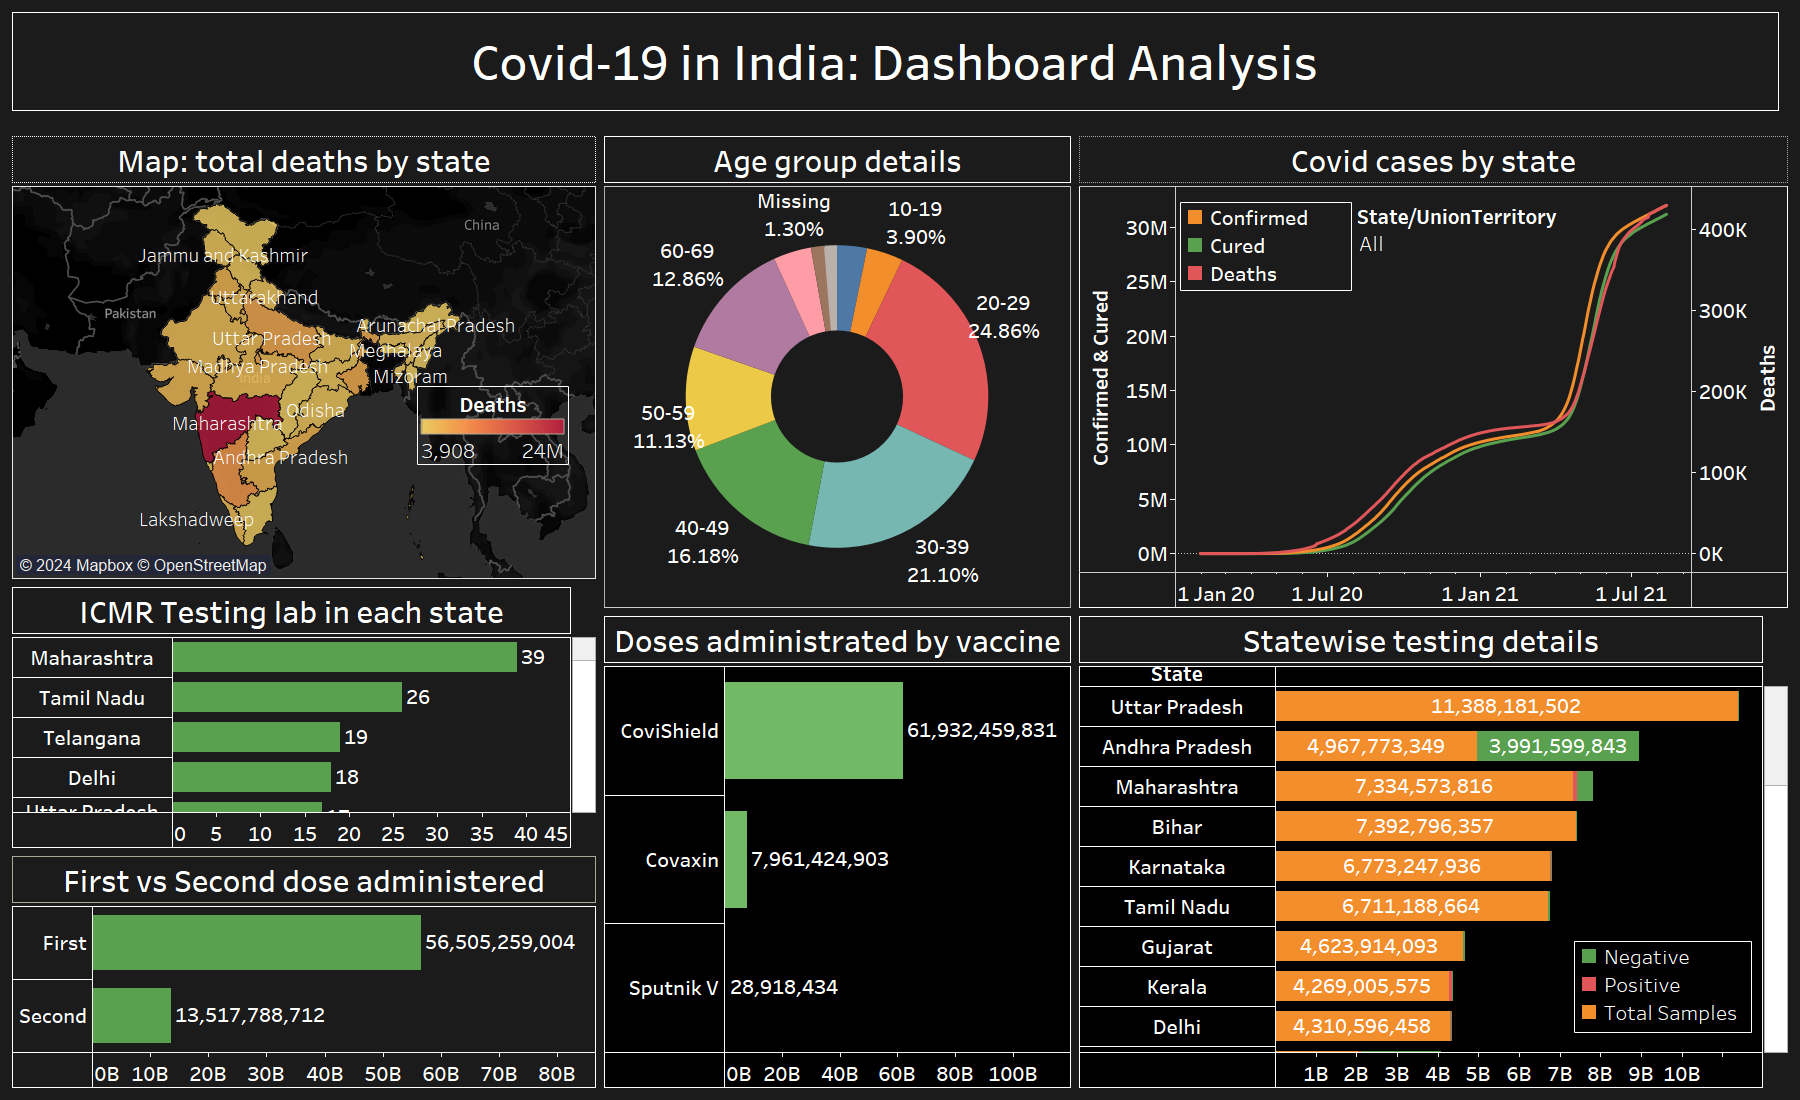

This screenshot's page, from the dashboard's own definition file:
{"tool":"tableau","page":{"name":"Dashboard 1","canvas":[1800,1100],"ordinal":0},"visuals":[{"type":"worksheet","title":"Title","mark":"Automatic","box":[8,8,1784,124]},{"type":"worksheet","title":"Map total deaths by state","mark":"Automatic","box":[8,132,592,451]},{"type":"worksheet","title":"Age group details","mark":"Pie","rows":["Calculation_601512063889960962","Calculation_601512063889977348"],"box":[600,132,475,480]},{"type":"worksheet","title":"Covid cases by state","mark":"Automatic","rows":["Deaths"],"cols":["Date"],"box":[1075,132,717,480]},{"type":"filter","title":"Covid cases by state","param":"[federated.00fnfea0i6p8bx16boefk0t7qds0].[none:State/UnionTerritory:nk]","box":[1357,201,213,89]},{"type":"legend","title":"Covid cases by state","param":"[federated.00fnfea0i6p8bx16boefk0t7qds0].[:Measure Names]","box":[1180,202,172,89]},{"type":"legend","title":"Map total deaths by state","param":"[federated.00fnfea0i6p8bx16boefk0t7qds0].[sum:Deaths:qk]","box":[413,382,160,88]},{"type":"worksheet","title":"ICMR Testing lab in each state","mark":"Automatic","rows":["state"],"cols":["lab"],"box":[8,583,592,269]},{"type":"worksheet","title":"Doses administrated by vaccine","mark":"Automatic","box":[600,612,475,480]},{"type":"worksheet","title":"Statewise testing details","mark":"Bar","rows":["State"],"box":[1075,612,717,480]},{"type":"worksheet","title":"First vs Second dose administered","mark":"Automatic","box":[8,852,592,240]},{"type":"legend","title":"Statewise testing details","param":"[federated.0zv3xqb0nqts8218ih2eg0zsw73j].[:Measure Names]","box":[1574,941,178,92]}]}

Visuals, with their boxes in screenshot pixels (x1, y1, x2, y2), scaled from the page's 1800x1100 canvas onto the 1800x1100 screenshot:
"Title" worksheet: locate(8, 8, 1792, 132)
"Map total deaths by state" worksheet: locate(8, 132, 600, 583)
"Age group details" worksheet (Pie marks): locate(600, 132, 1075, 612)
"Covid cases by state" worksheet: locate(1075, 132, 1792, 612)
"Covid cases by state" filter: locate(1357, 201, 1570, 290)
"Covid cases by state" legend: locate(1180, 202, 1352, 291)
"Map total deaths by state" legend: locate(413, 382, 573, 470)
"ICMR Testing lab in each state" worksheet: locate(8, 583, 600, 852)
"Doses administrated by vaccine" worksheet: locate(600, 612, 1075, 1092)
"Statewise testing details" worksheet (Bar marks): locate(1075, 612, 1792, 1092)
"First vs Second dose administered" worksheet: locate(8, 852, 600, 1092)
"Statewise testing details" legend: locate(1574, 941, 1752, 1033)
